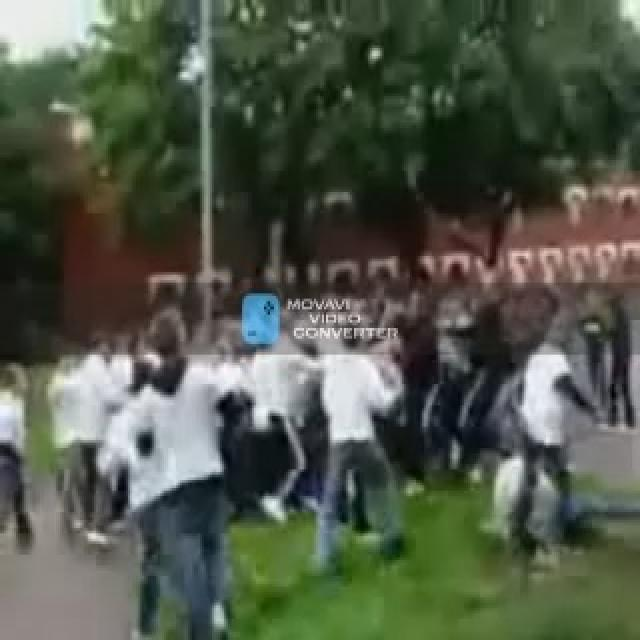non-voilence: (0, 272, 638, 637), (238, 290, 280, 346)
